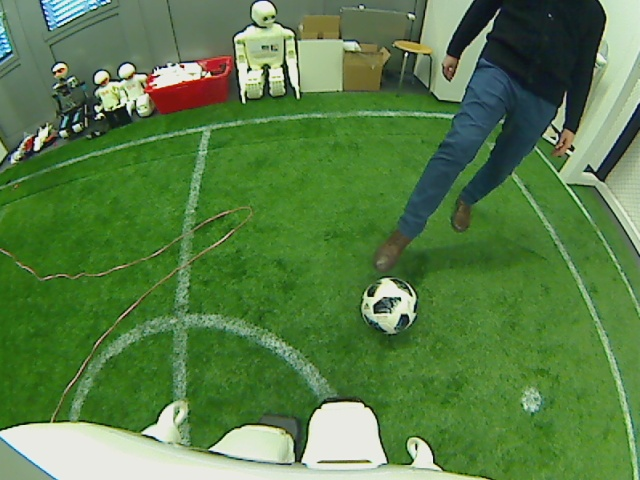ball: (358, 274, 420, 336)
